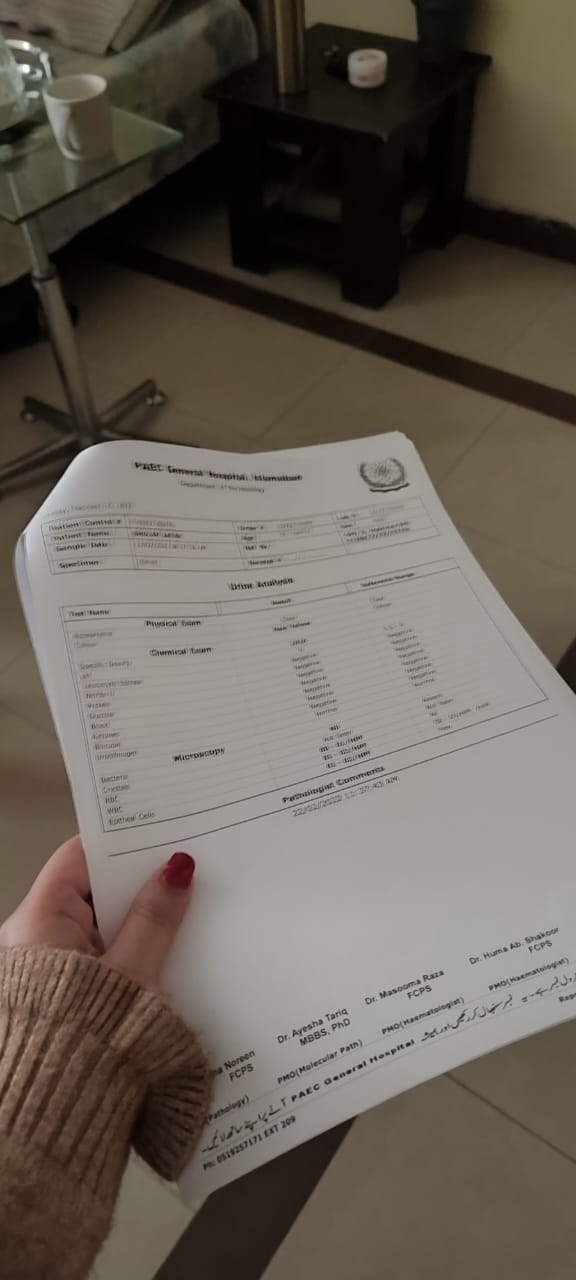report: (63, 555, 553, 834)
